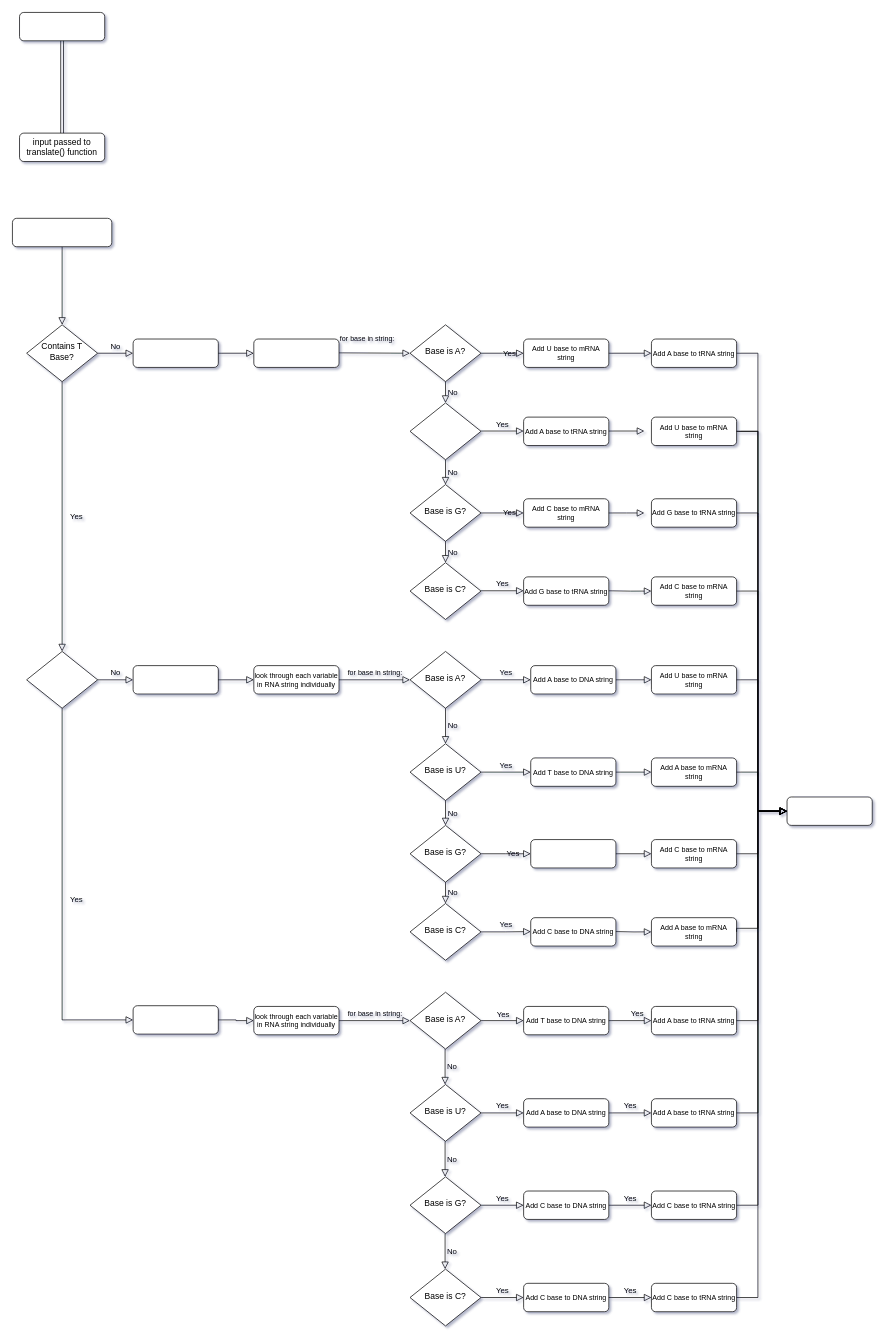
The diagram is 889 pixels wide and 1343 high, and some of its shapes have lost their labels. The box of each missing label's shape, as (x1, y1, x2, y2) in pixels:
Add G base to DNA string: (530, 839, 616, 868)
Amino Acids Time: (786, 796, 872, 825)
Base is T?: (409, 402, 481, 460)
Input given by user: (19, 12, 105, 41)
look through each variable in DNA string individually: (253, 338, 339, 367)
mRNA defined?: (26, 651, 98, 708)
Translate DNA: (132, 338, 218, 367)
Translate mRNA: (132, 1005, 218, 1034)
Translate tRNA: (132, 665, 218, 694)
translate(input_strand): (12, 218, 112, 247)
